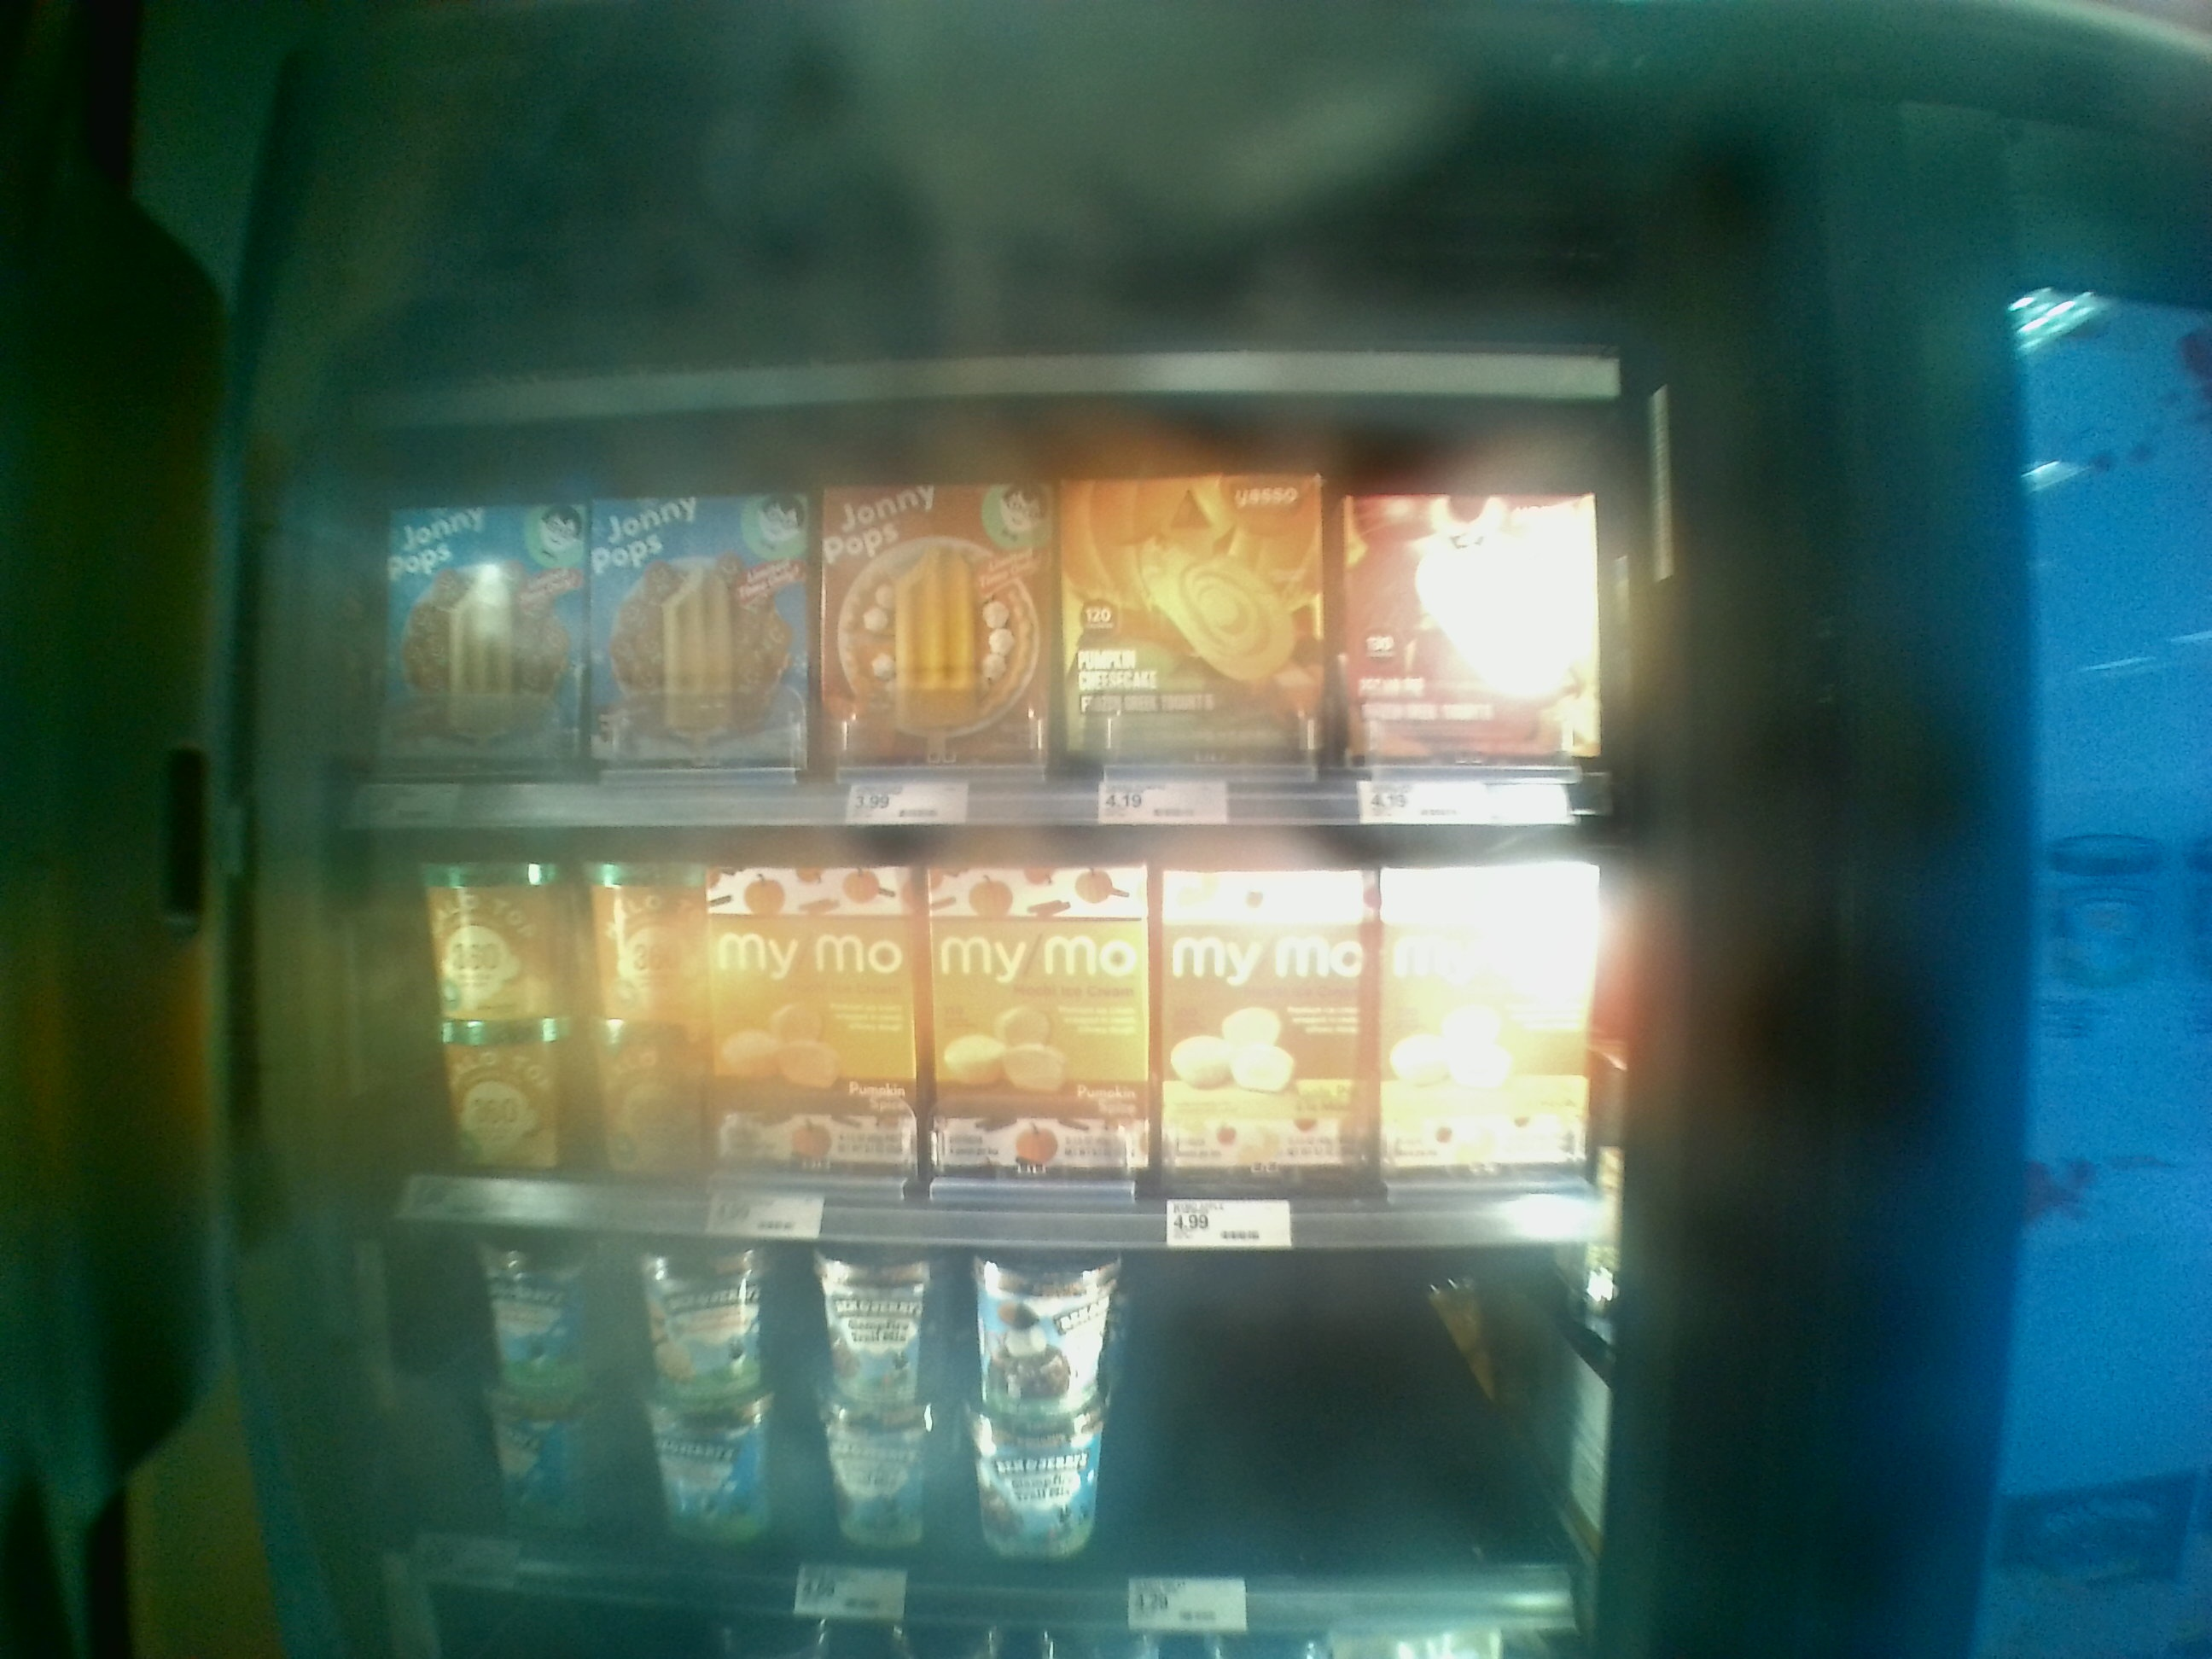shelf: (324, 812, 1641, 1243), (329, 406, 1634, 821), (324, 1215, 1635, 1626)
